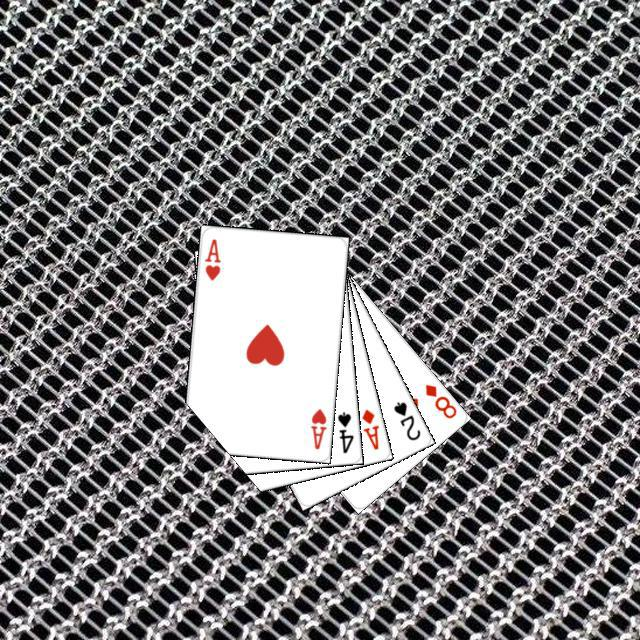2s: (388, 397, 422, 442)
4s: (332, 407, 355, 455)
8d: (420, 379, 458, 420)
Ad: (357, 404, 380, 452)
Ah: (199, 234, 222, 282), (306, 403, 328, 451)
